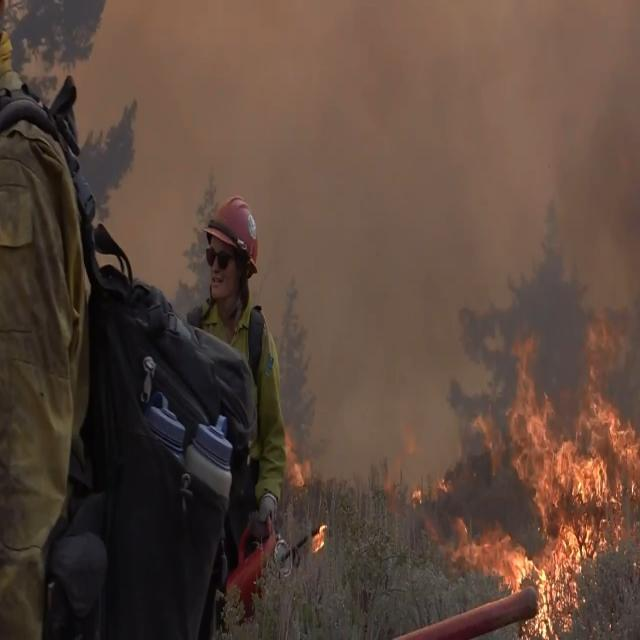Fire: (427, 323, 640, 640)
